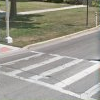crosswalk: (0, 53, 100, 99)
